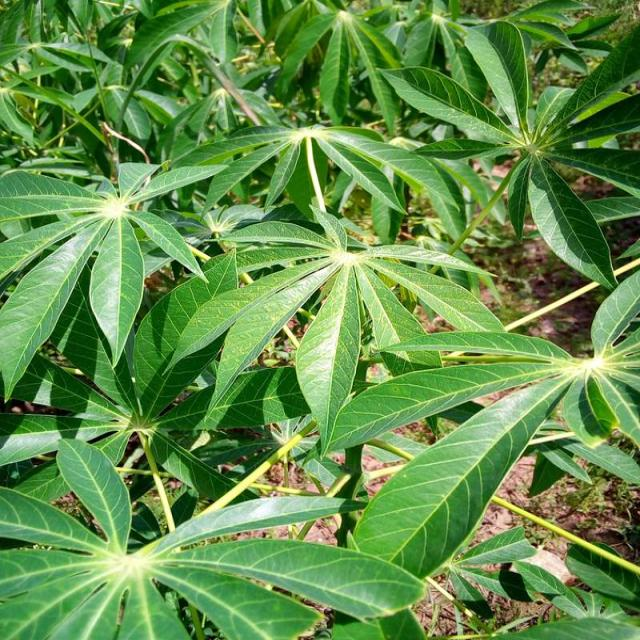cassava leaf: (1, 2, 638, 637), (350, 367, 571, 580)
